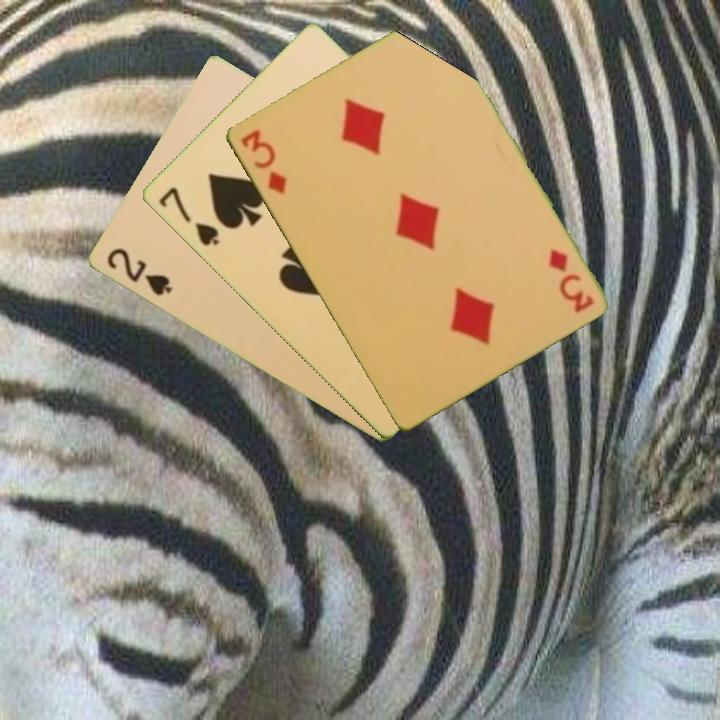2s: (102, 244, 175, 299)
3d: (236, 125, 290, 198), (544, 244, 597, 316)
7s: (154, 183, 222, 249)
